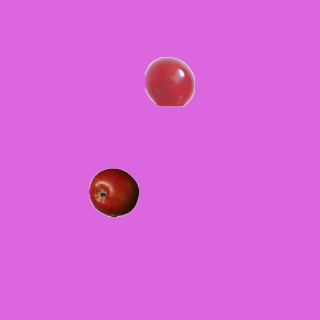Apple Braeburn: (88, 167, 138, 217)
Redcurrant: (144, 56, 194, 106)
